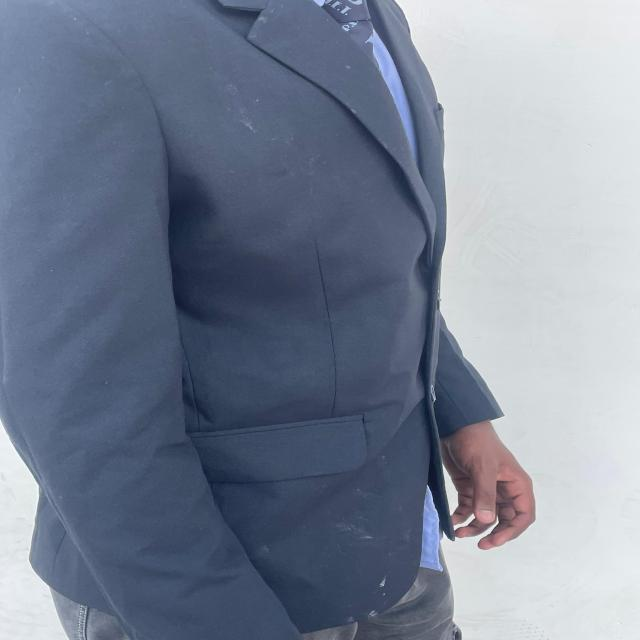uniform: (1, 0, 506, 639)
